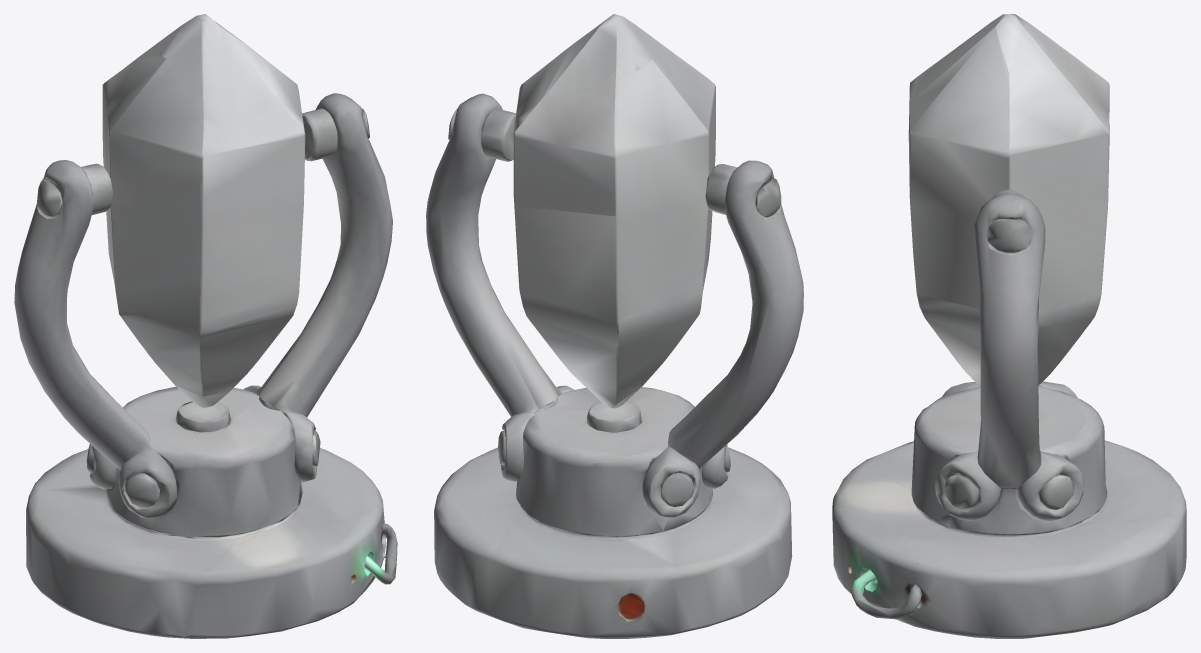
The model's file is m2EnergyNode.glb.
The picture shows the model from 3 angles, left to right: view 1: azimuth 30°, elevation 25°; view 2: azimuth 150°, elevation 25°; view 3: azimuth 270°, elevation 25°; orthographic projection.
Parts seen in each view (by area): view 1: model; view 2: model; view 3: model.
Boxes of the visible parts, left/top/right/bottom form: model: left=14, top=14, right=397, bottom=638; model: left=426, top=14, right=803, bottom=638; model: left=832, top=14, right=1186, bottom=638.
Bounding box in the file's own units: 1.31 × 1.89 × 1.09.
1 material, 1 textured.
